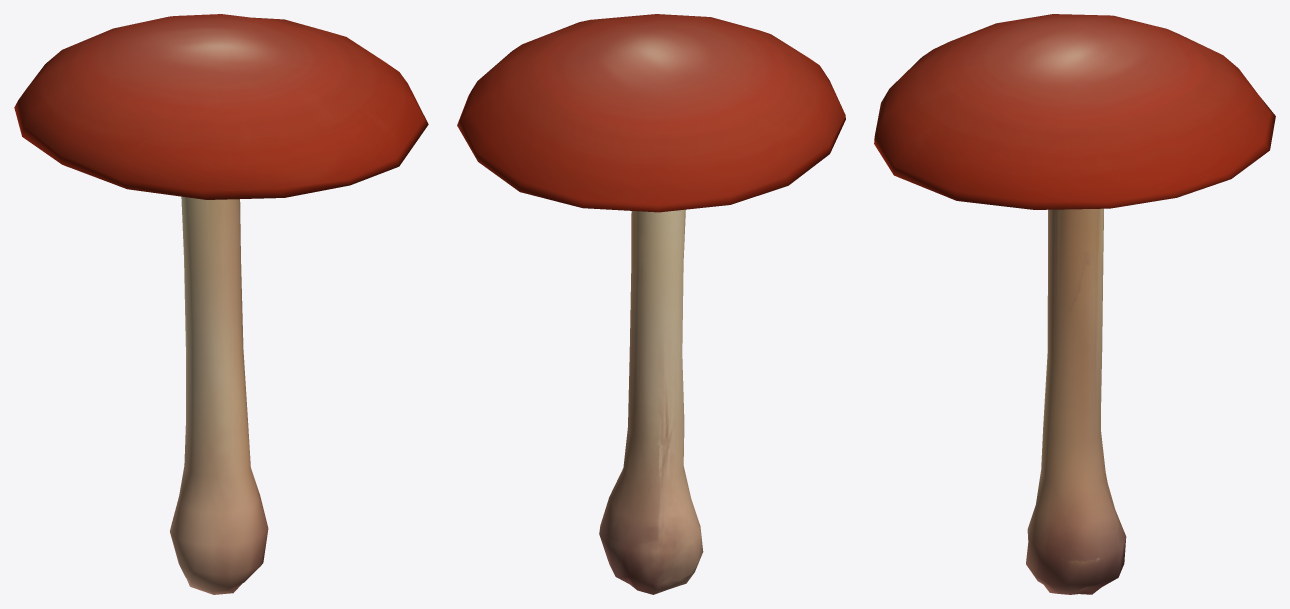
File: NormalMushroom2.fbx
3 views of the same model, side by side, from view 1: azimuth 30°, elevation 25°; view 2: azimuth 150°, elevation 25°; view 3: azimuth 270°, elevation 25° (orthographic).
Parts seen in each view (by area): view 1: Mushroom_9.1_Mushrooms_0.002, Mushroom_9.1_Mushrooms_0.003; view 2: Mushroom_9.1_Mushrooms_0.002, Mushroom_9.1_Mushrooms_0.003; view 3: Mushroom_9.1_Mushrooms_0.002, Mushroom_9.1_Mushrooms_0.003.
Part boxes in pixels (x1,y1,x2,y2): Mushroom_9.1_Mushrooms_0.002: (14, 14, 428, 199); Mushroom_9.1_Mushrooms_0.003: (170, 196, 268, 594); Mushroom_9.1_Mushrooms_0.002: (457, 14, 845, 212); Mushroom_9.1_Mushrooms_0.003: (599, 209, 703, 594); Mushroom_9.1_Mushrooms_0.002: (874, 14, 1275, 209); Mushroom_9.1_Mushrooms_0.003: (1026, 208, 1126, 594).
Bounding box in the file's own units: 108 × 165 × 111.
